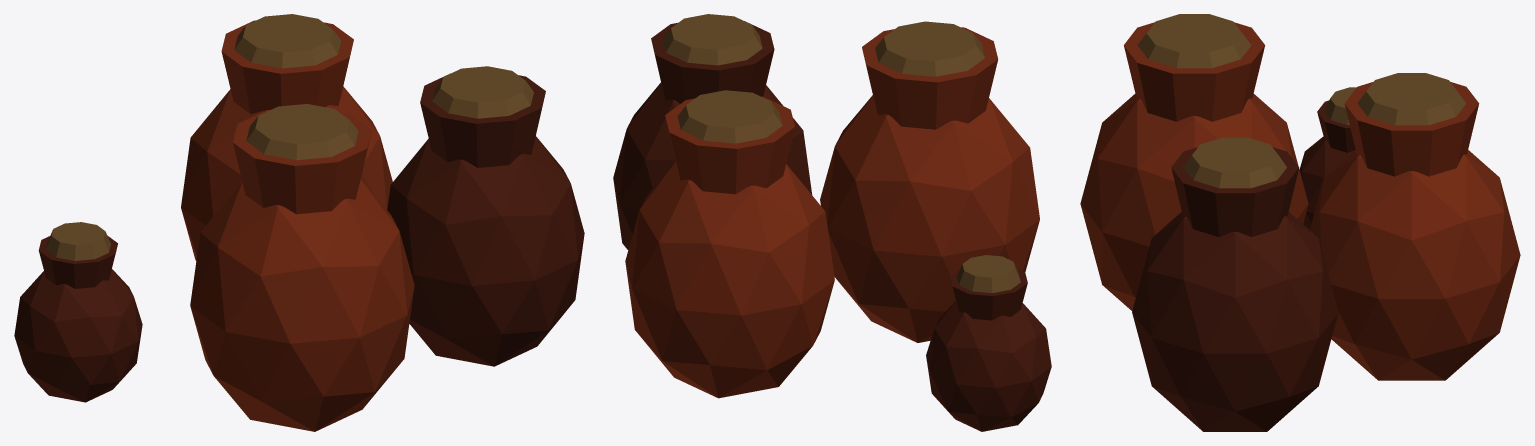
File: storage_jars.fbx
3 views of the same model, side by side, from view 1: azimuth 30°, elevation 25°; view 2: azimuth 150°, elevation 25°; view 3: azimuth 270°, elevation 25° (orthographic).
Parts seen in each view (by area): view 1: storage_jars; view 2: storage_jars; view 3: storage_jars.
Part boxes in pixels (x1=…): storage_jars: x1=14, y1=14, x2=584, y2=431; storage_jars: x1=613, y1=14, x2=1051, y2=431; storage_jars: x1=1080, y1=14, x2=1520, y2=431.
Bounding box in the file's own units: 2.04 × 1.22 × 1.62.
